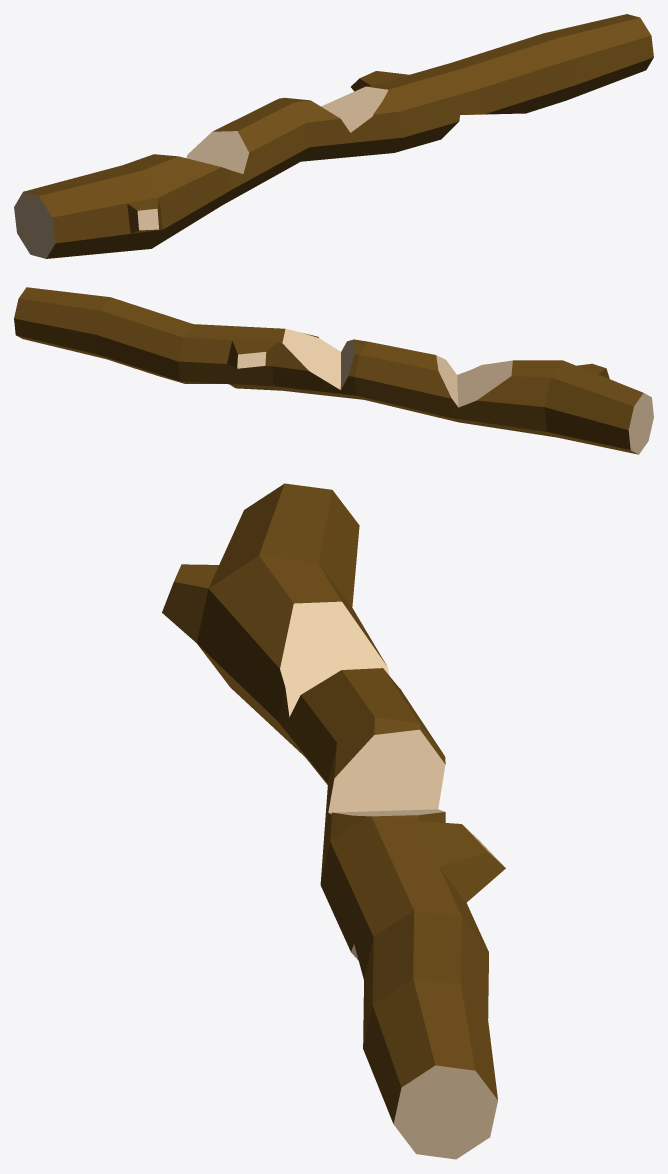
Rendered from Weak Log 1.fbx.
3 views of the same model, one above another, from view 1: azimuth 30°, elevation 25°; view 2: azimuth 150°, elevation 25°; view 3: azimuth 270°, elevation 25° (orthographic). The views are drawn at different scales.
Parts seen in each view (by area): view 1: Cylinder; view 2: Cylinder; view 3: Cylinder.
Part boxes in pixels (x1=…): Cylinder: x1=14, y1=14, x2=653, y2=258; Cylinder: x1=14, y1=287, x2=653, y2=454; Cylinder: x1=162, y1=483, x2=505, y2=1159.
Size of the model in its own units: 939 by 109 by 239.
